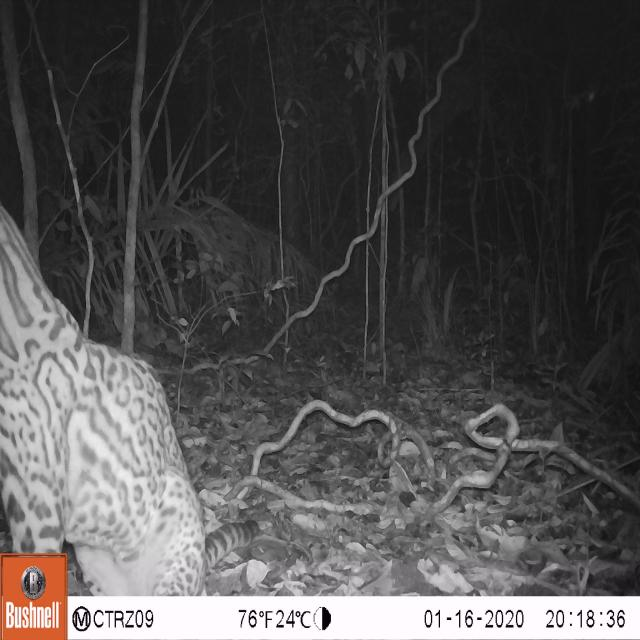Ocelote: (0, 186, 216, 594)
